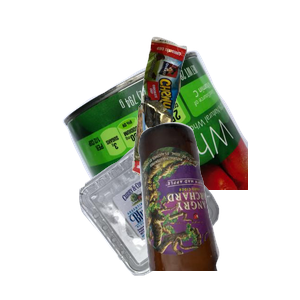glass: (136, 120, 300, 300)
metal: (60, 48, 300, 228)
plastic: (77, 133, 289, 300)
trash: (130, 34, 300, 203)
